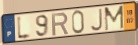0: (71, 9, 86, 35)
9: (34, 14, 49, 38)
J: (89, 8, 104, 33)
L: (16, 14, 33, 41)
M: (104, 5, 126, 32)
R: (51, 12, 70, 37)
